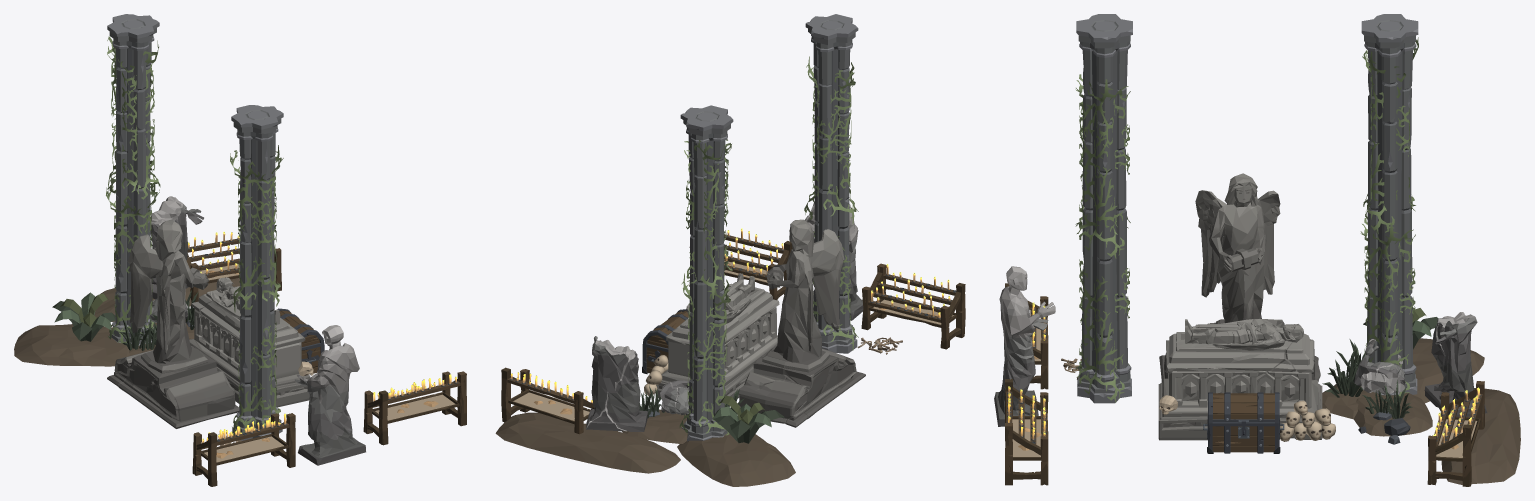
File: crypt_altar_end.gltf
3 renders of one model, left to right at view 1: azimuth 30°, elevation 25°; view 2: azimuth 150°, elevation 25°; view 3: azimuth 270°, elevation 25°, orthographic. The views are drawn at different scales.
Visible parts, largest first — view 1: crypt_altar_end; view 2: crypt_altar_end; view 3: crypt_altar_end.
Boxes of the visible parts, left/top/right/bottom form: crypt_altar_end: left=14, top=14, right=466, bottom=486; crypt_altar_end: left=495, top=14, right=965, bottom=486; crypt_altar_end: left=994, top=14, right=1520, bottom=486.
Size of what is drawn, in the model's own units: 6.84 by 7.81 by 10.09.
2 materials, 2 textured.
